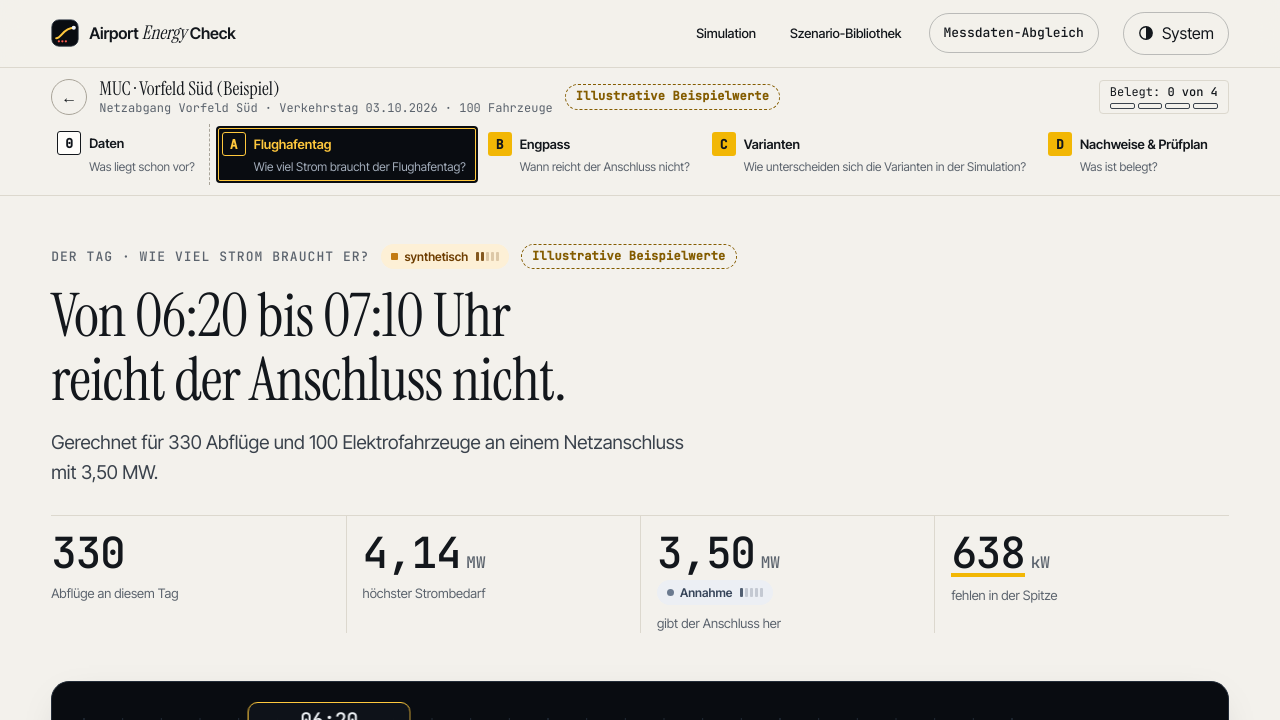
Test: Oberfläche › navigiert über die vier Fragen und beginnt jede mit dem Antwortsatz
Check: the heading "Von 06:20 bis 07:10 Uhr reicht der Anschluss nicht." is shown, box x1=51 y1=277 x2=566 y2=419
Click the link "B Engpass Wann reicht der Anschluss nicht?" at (545, 144), box x1=482 y1=126 x2=702 y2=183
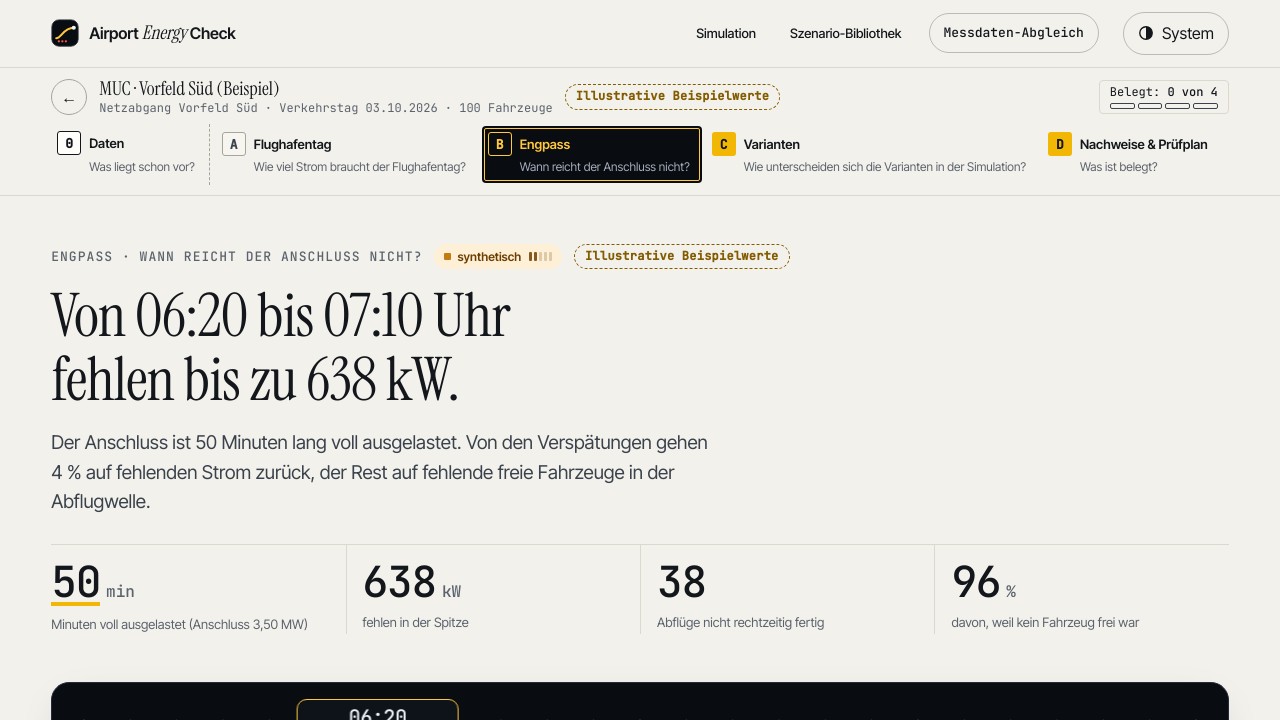
Check: the text "Illustrative Beispielwerte" in the row of "MUC · Vorfeld Süd (Beispiel)" is shown, box x1=576 y1=88 x2=769 y2=104
Check: the heading "Von 06:20 bis 07:10 Uhr fehlen bis zu 638 kW." is shown, box x1=51 y1=277 x2=510 y2=419
Click the link "Varianten" at (772, 144), box x1=706 y1=126 x2=1038 y2=183
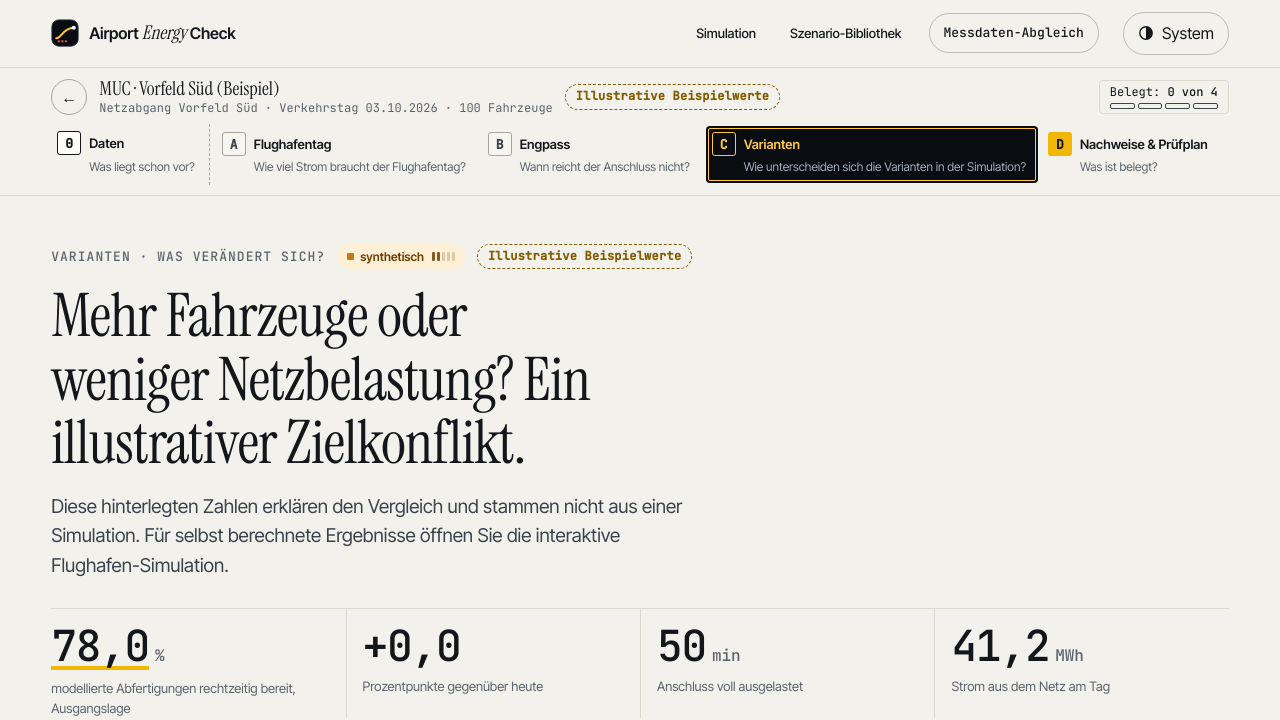
Check: the heading "Mehr Fahrzeuge oder weniger Netzbelastung? Ein illustrativer Zielkonflikt." is shown, box x1=51 y1=277 x2=590 y2=482
Click the link "D Nachweise & Prüfplan Was ist belegt?" at (1131, 154), box x1=1042 y1=126 x2=1220 y2=183
(page scrolled)
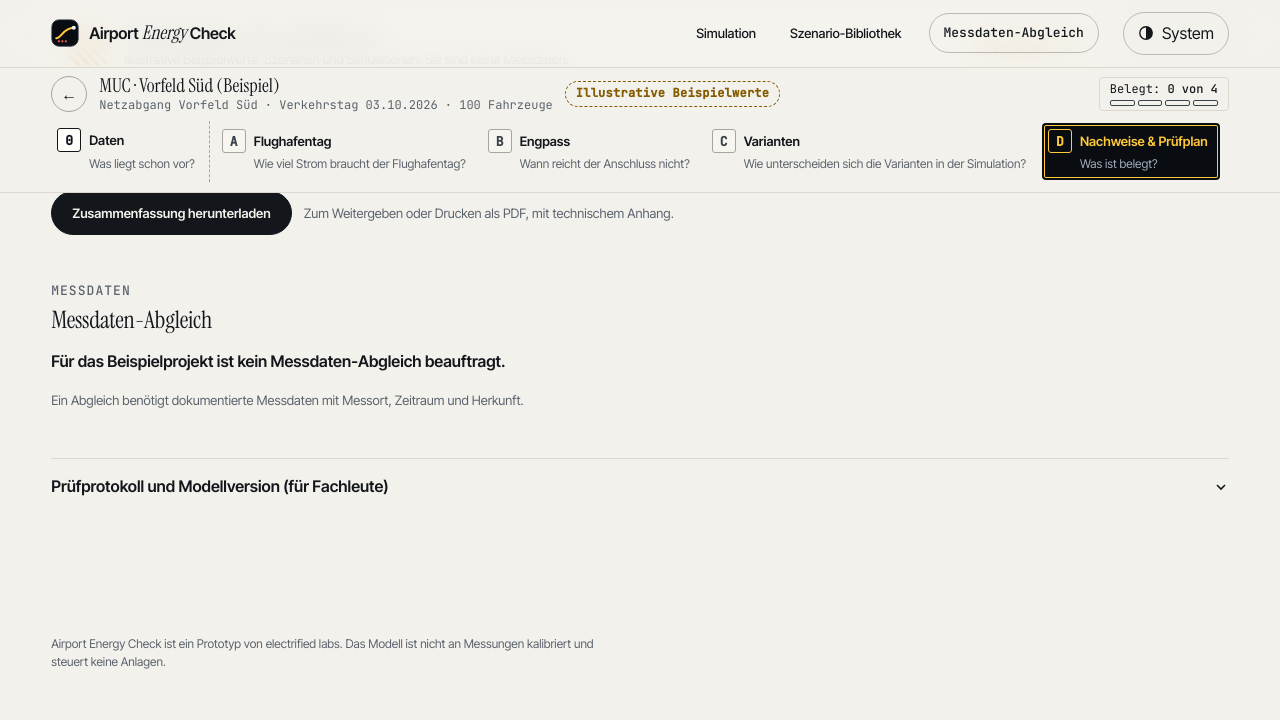
Check: the text "Für das Beispielprojekt ist kein Messdaten-Abgleich beauftragt." is shown, box x1=51 y1=351 x2=506 y2=371
